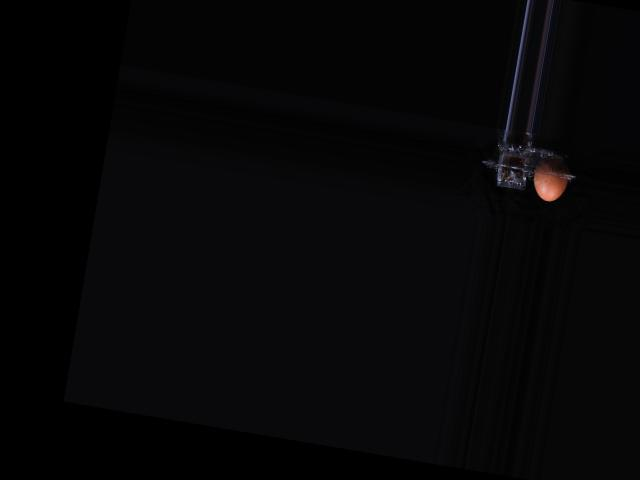egg: (531, 153, 572, 203)
